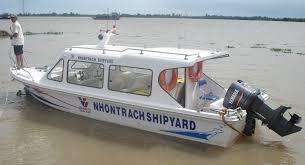Ship: (12, 33, 302, 148)
